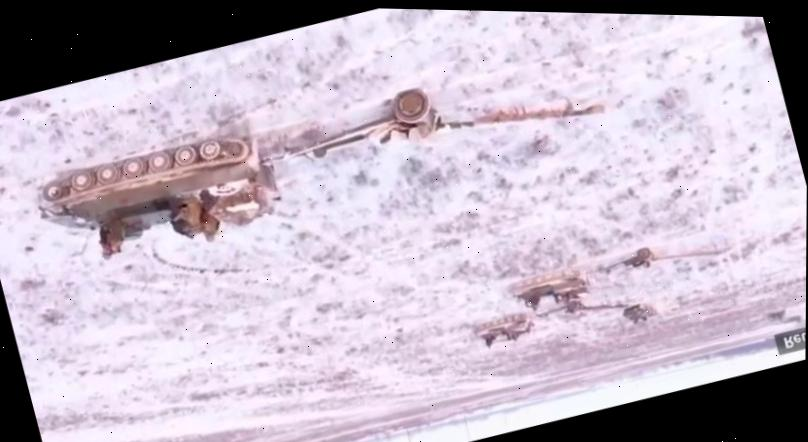sau: (260, 37, 607, 200), (592, 227, 720, 287), (533, 285, 628, 330)
tank: (30, 118, 287, 280), (508, 262, 591, 316), (471, 308, 538, 352), (618, 298, 656, 327), (762, 306, 789, 325)
